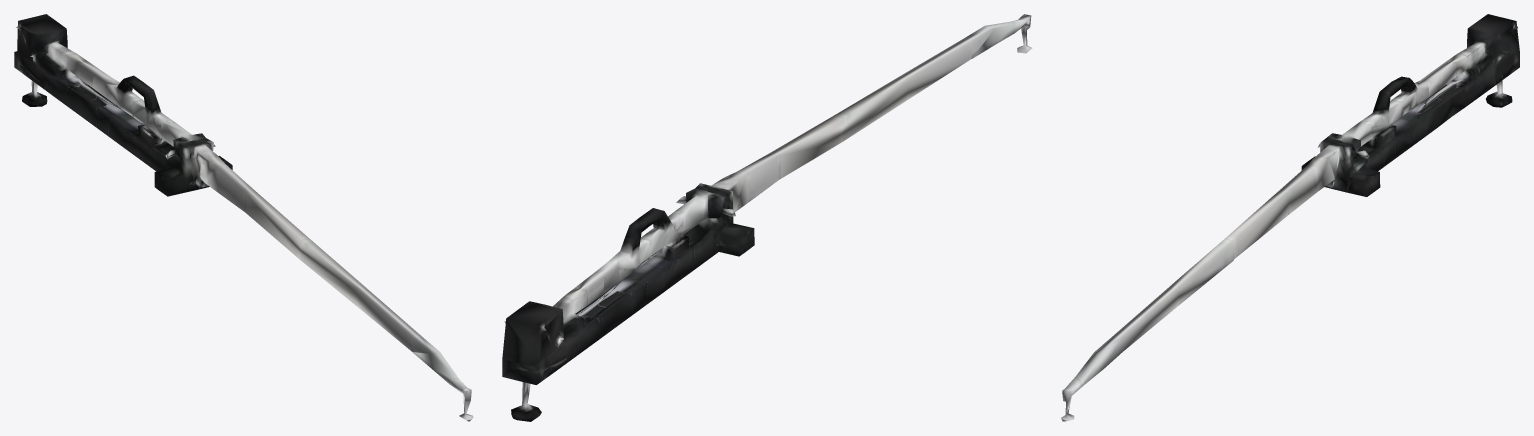
Rendered from viga-benkelman_lod1.glb.
3 views of the same model, side by side, from view 1: azimuth 30°, elevation 25°; view 2: azimuth 150°, elevation 25°; view 3: azimuth 330°, elevation 25° (orthographic). The views are drawn at different scales.
Visible parts, largest first — view 1: tripo_node_55468021-43df-4932-9a08-fb496d5f5c5a; view 2: tripo_node_55468021-43df-4932-9a08-fb496d5f5c5a; view 3: tripo_node_55468021-43df-4932-9a08-fb496d5f5c5a.
Boxes of the visible parts, box(x1,y1,x2,y2) form: tripo_node_55468021-43df-4932-9a08-fb496d5f5c5a: box(14, 14, 473, 421); tripo_node_55468021-43df-4932-9a08-fb496d5f5c5a: box(502, 14, 1032, 421); tripo_node_55468021-43df-4932-9a08-fb496d5f5c5a: box(1061, 14, 1519, 421).
Bounding box in the file's own units: 0.3079 × 0.4291 × 3.6.
1 material, 1 textured.
